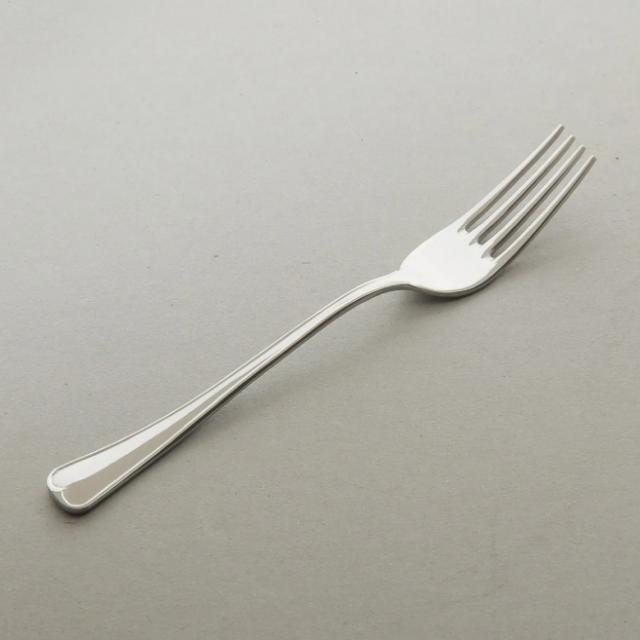fork: (43, 107, 600, 531)
